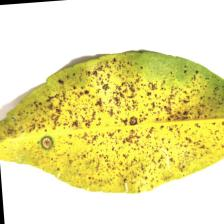canker: (30, 83, 212, 163)
